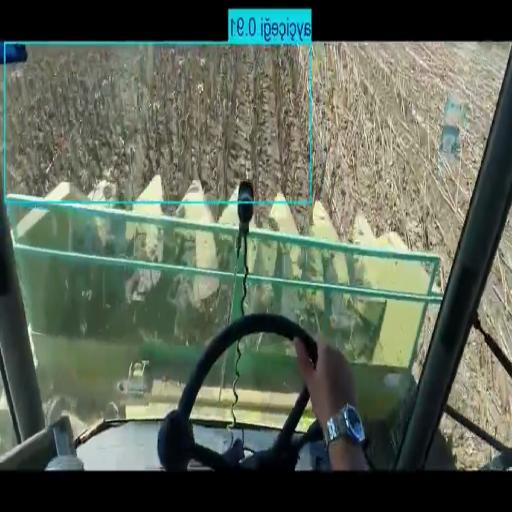ayc: (4, 47, 309, 198)
